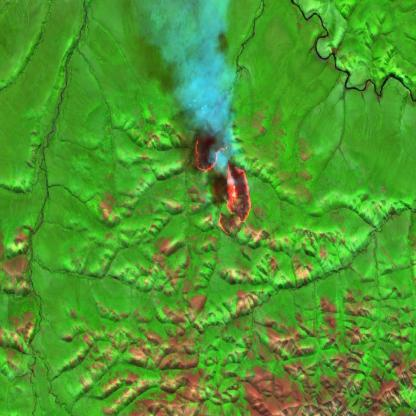fire: (192, 128, 252, 236)
